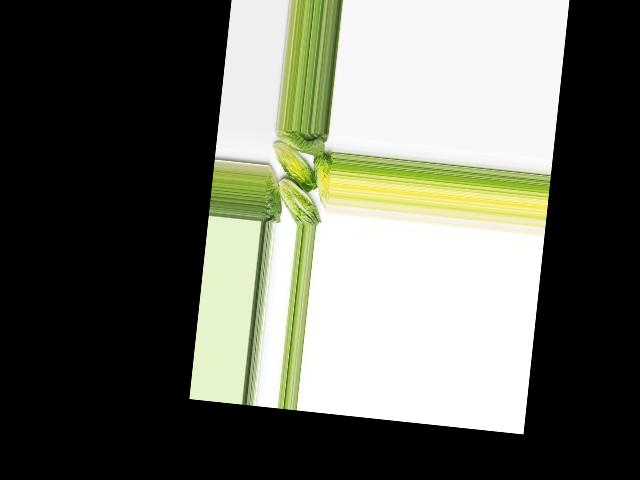lettuce: (274, 128, 329, 159)
